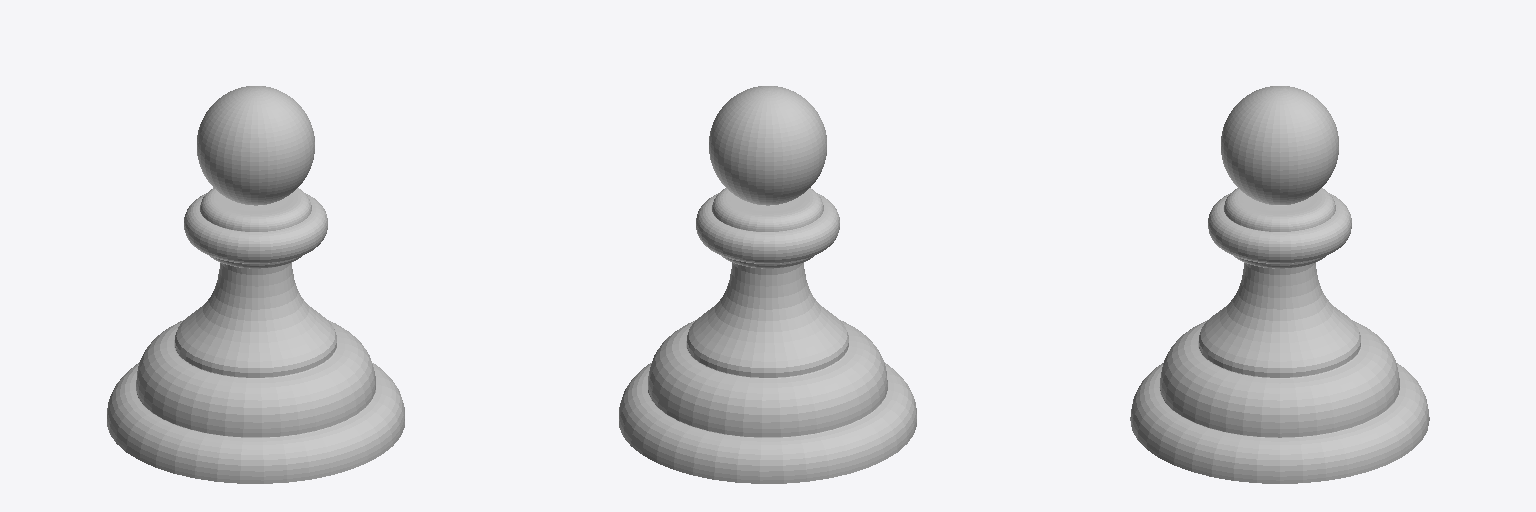
Rendered from finalsoliderrightup1.obj.
3 views of the same model, side by side, from view 1: azimuth 30°, elevation 25°; view 2: azimuth 150°, elevation 25°; view 3: azimuth 270°, elevation 25° (orthographic).
Visible parts, largest first — view 1: white_pawn1_Mesh.003; view 2: white_pawn1_Mesh.003; view 3: white_pawn1_Mesh.003.
Part boxes in pixels (x1,y1,x2,y2): white_pawn1_Mesh.003: (107,86,404,483); white_pawn1_Mesh.003: (619,86,916,483); white_pawn1_Mesh.003: (1130,86,1429,483).
Bounding box in the file's own units: 0.489 × 0.5954 × 0.489.